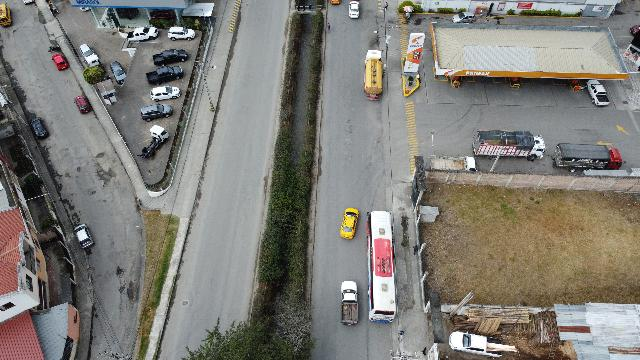Vehiculo: (449, 331, 503, 357), (339, 280, 358, 326), (146, 66, 184, 86), (79, 43, 103, 70), (152, 48, 188, 66), (586, 80, 610, 106), (141, 104, 173, 122), (340, 209, 358, 240), (74, 224, 94, 250), (128, 26, 158, 42), (151, 86, 181, 102), (106, 8, 140, 20), (30, 117, 48, 139), (168, 27, 195, 41), (110, 62, 126, 84), (150, 125, 168, 143), (75, 95, 91, 113), (0, 2, 12, 26), (150, 9, 176, 20), (52, 54, 68, 70), (452, 12, 476, 22), (349, 1, 359, 18), (630, 25, 640, 35), (22, 1, 34, 6), (80, 7, 90, 12), (330, 0, 340, 4)
